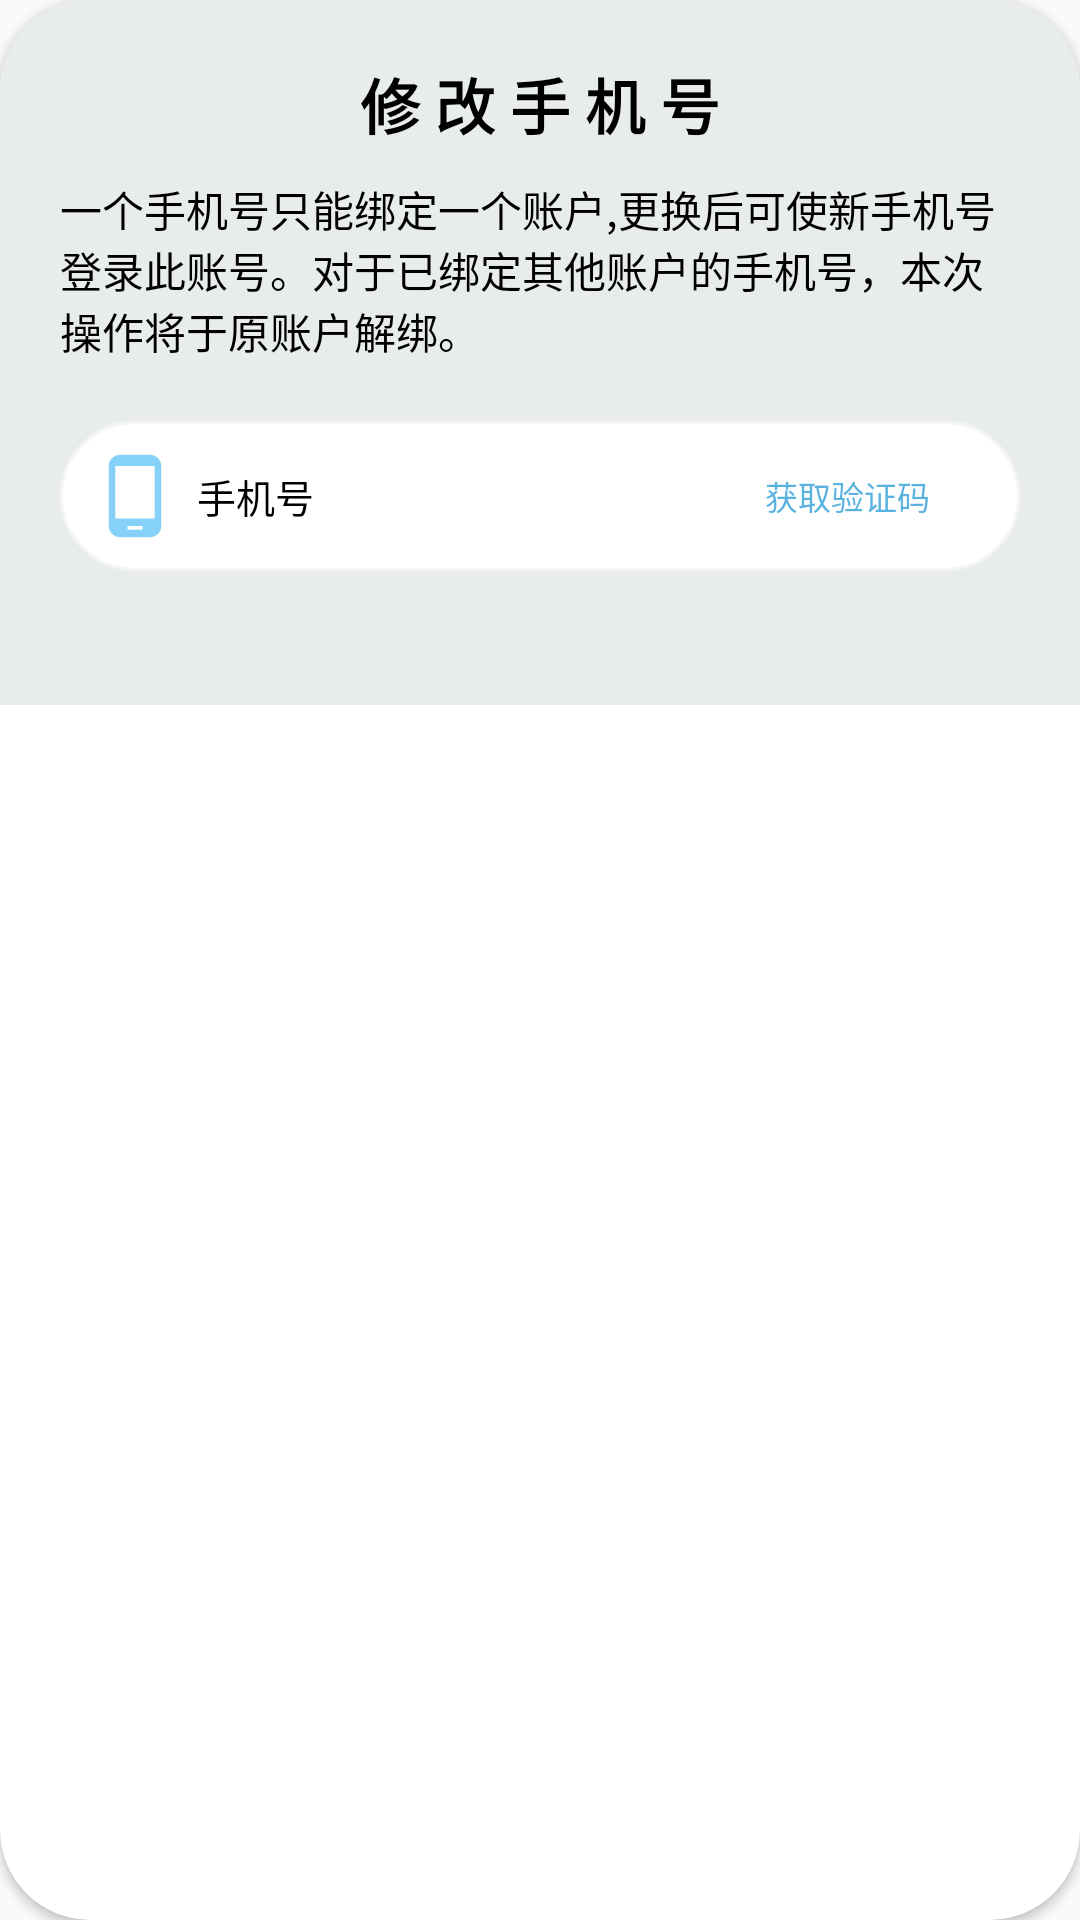

Where to tap for icons on this 1080w x 1920h app screen, as point (x, y):
phone android: point (135, 496)
